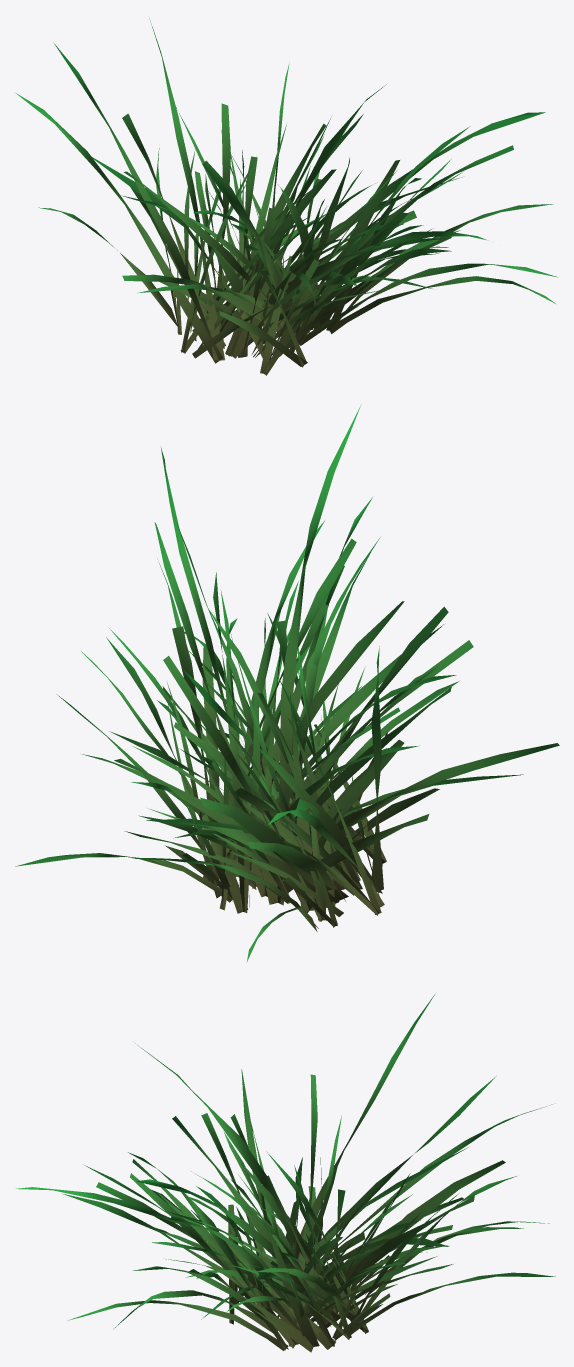
The model's file is GrassClump.fbx.
The picture shows the model from 3 angles, top to bottom: view 1: azimuth 30°, elevation 25°; view 2: azimuth 150°, elevation 25°; view 3: azimuth 270°, elevation 25°; orthographic projection. The views are drawn at different scales.
Parts seen in each view (by area): view 1: grassClump2Main; view 2: grassClump2Main; view 3: grassClump2Main.
Part boxes in pixels (x1,y1,x2,y2): grassClump2Main: (16, 19, 557, 375); grassClump2Main: (15, 404, 559, 962); grassClump2Main: (16, 993, 555, 1352).
Bounding box in the file's own units: 1.16 × 0.9359 × 1.53.
1 material, 1 textured.
